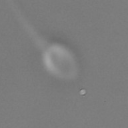normal: (6, 1, 48, 48)
